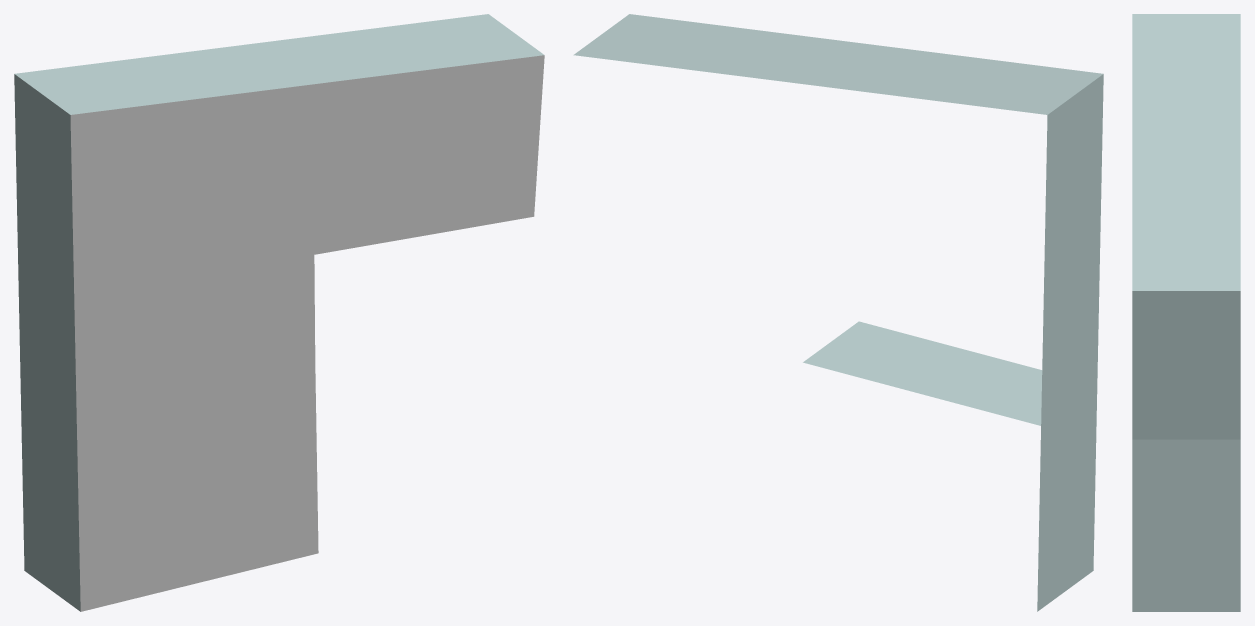
3 views of the same model, side by side, from view 1: azimuth 30°, elevation 25°; view 2: azimuth 150°, elevation 25°; view 3: azimuth 270°, elevation 25° (orthographic). The views are drawn at different scales.
Parts seen in each view (by area): view 1: 0_2_1_2_0_0_1_0_0; view 2: 0_2_1_2_0_0_1_0_0; view 3: 0_2_1_2_0_0_1_0_0.
Part boxes in pixels (left/top/right/bottom): 0_2_1_2_0_0_1_0_0: left=14, top=14, right=544, bottom=611; 0_2_1_2_0_0_1_0_0: left=573, top=14, right=1103, bottom=611; 0_2_1_2_0_0_1_0_0: left=1132, top=14, right=1240, bottom=611.
Size of the model in its own units: 14.6 by 14.7 by 3.
